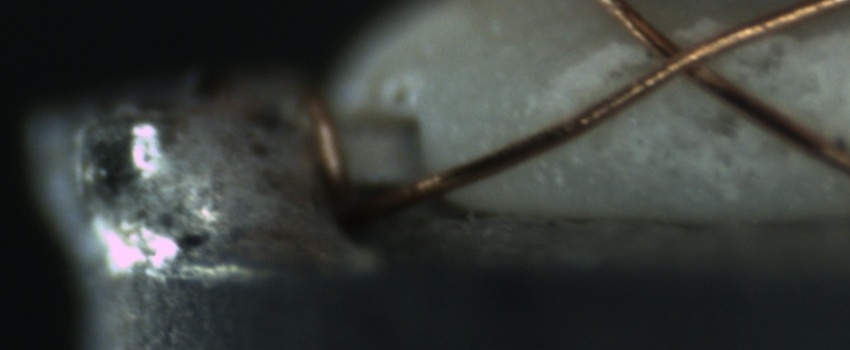CL: (630, 24, 729, 92)
TE: (293, 70, 351, 190)
